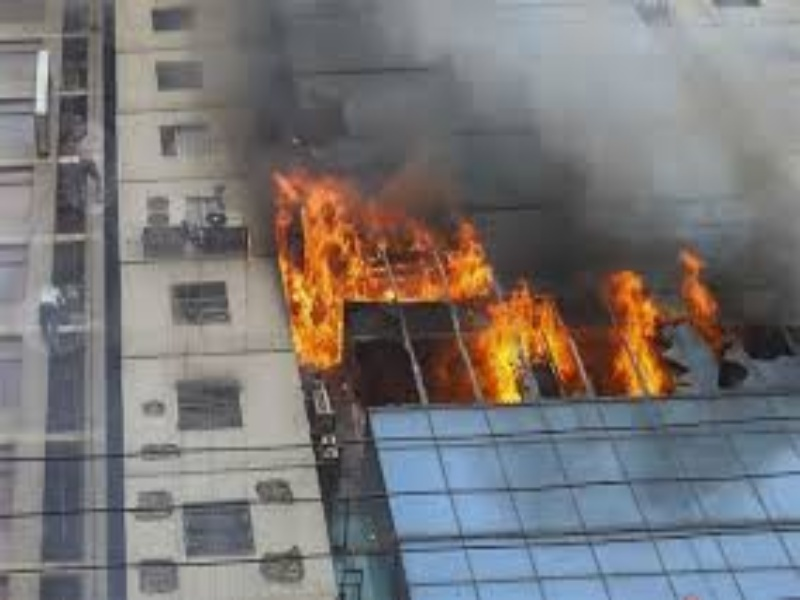smoke: (380, 1, 799, 272)
